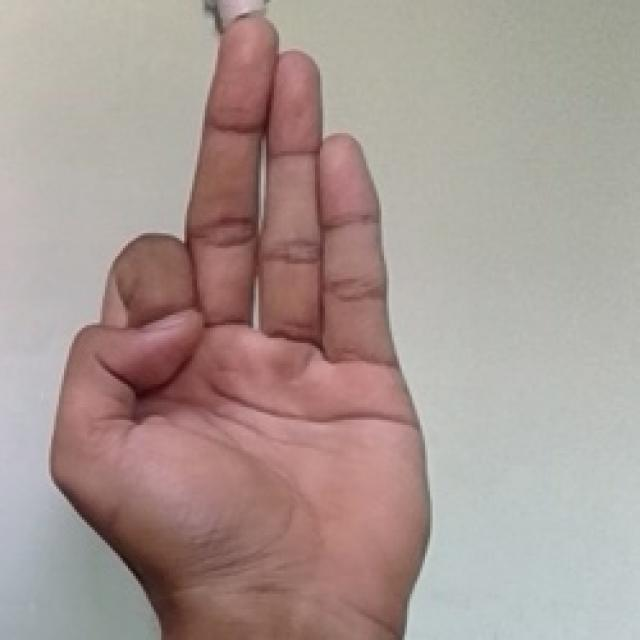Numeric-9: (52, 13, 434, 617)
